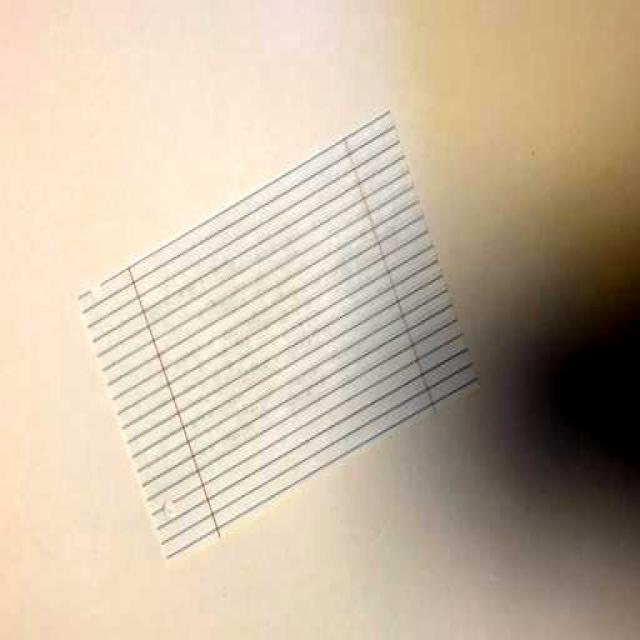paper: (70, 101, 489, 575)
